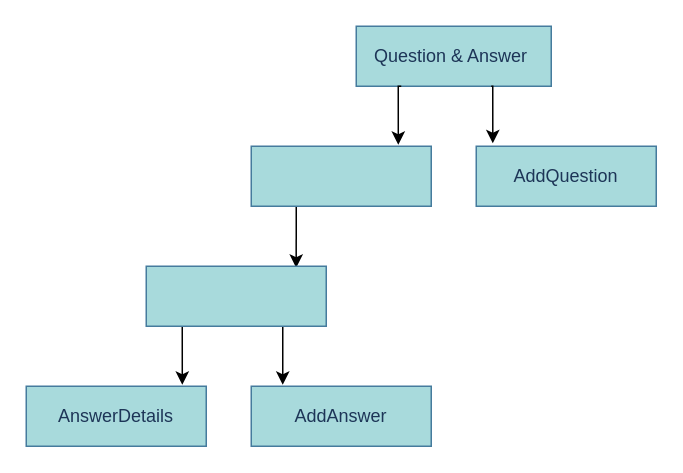
The diagram is 683 pixels wide and 473 high, and some of its shapes have lost their labels. Here are the shapes that lost their labels. From the top down, the centre of each, then its label:
the point at 340,175: QuestionDetails
the point at 235,295: AnswersList
